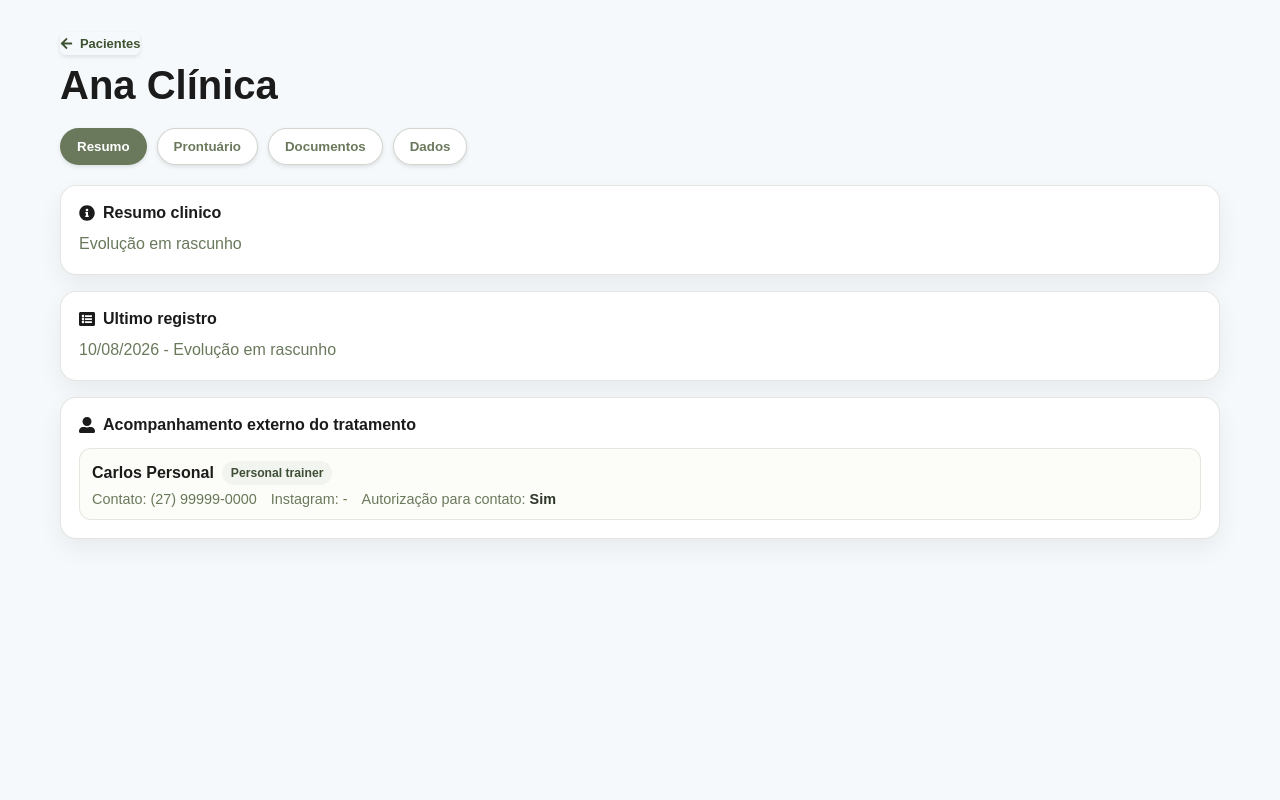
PatientDetails clinical write controls permission matrix › mostra objetivos estruturados como rótulos humanos: array
Expected: the heading "Ana Clínica" is shown, [60, 63, 278, 108]
Step 1. Click the button "Dados" → click(430, 146), box [393, 128, 467, 165]
(page scrolled)
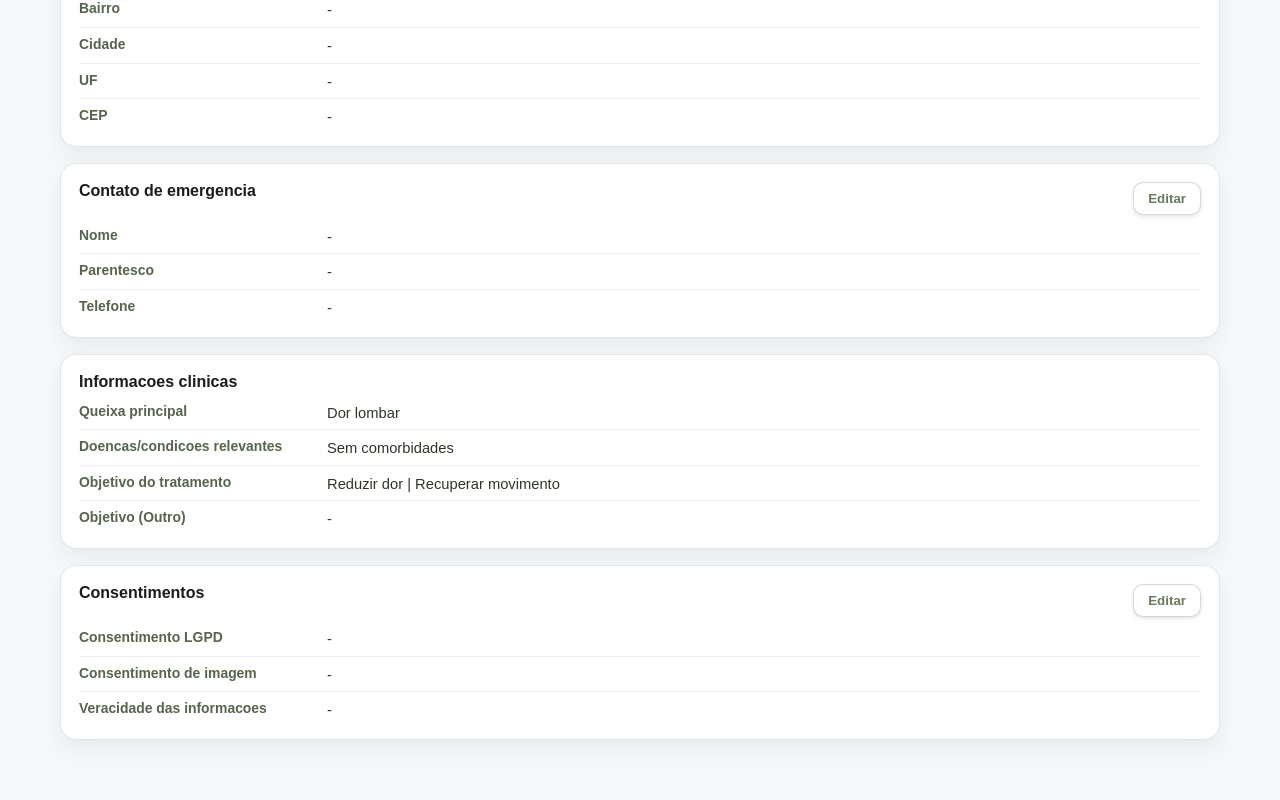
Expected: the text "Reduzir dor | Recuperar movimento" is shown, [327, 476, 560, 492]
